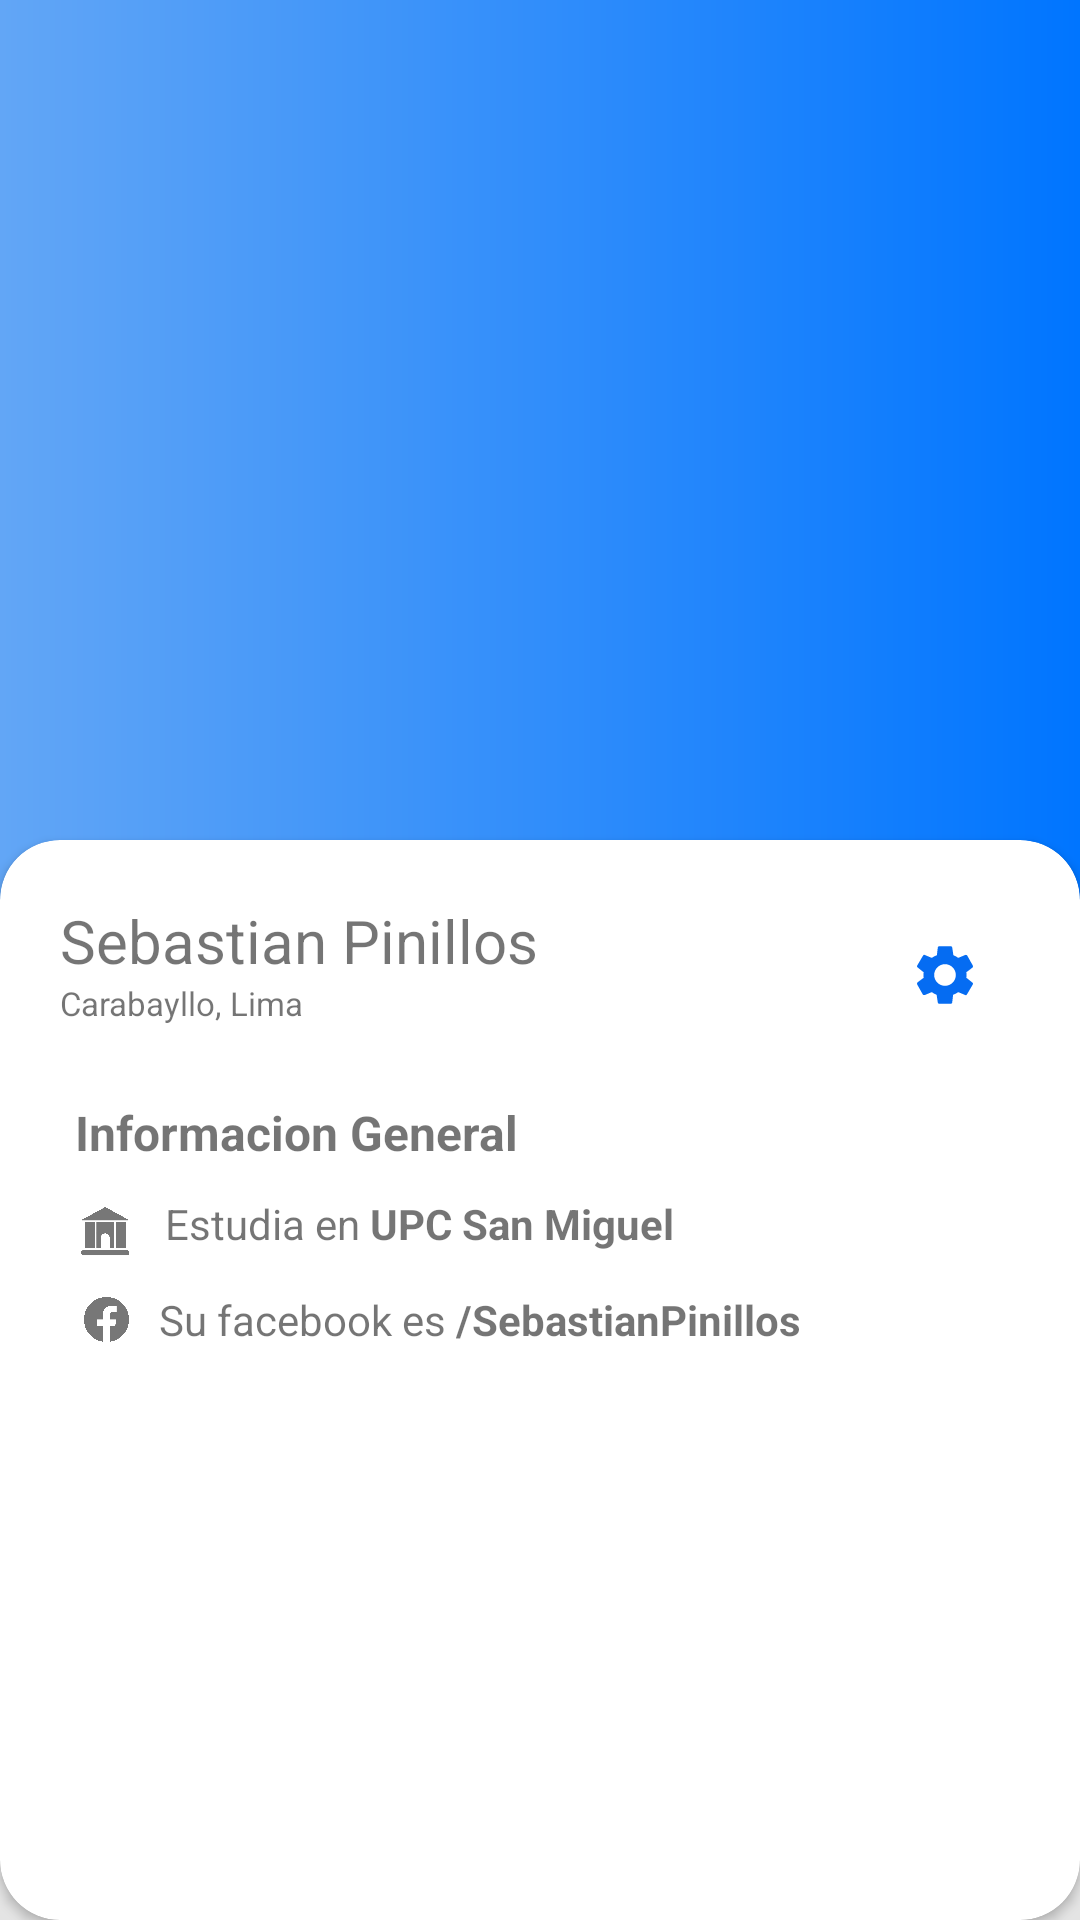

Where icons sit on this 1080*1920 app screen, as box=[x1, y1, x2, y2]:
settings: box=[917, 946, 973, 1004]
univer: box=[81, 1207, 129, 1255]
